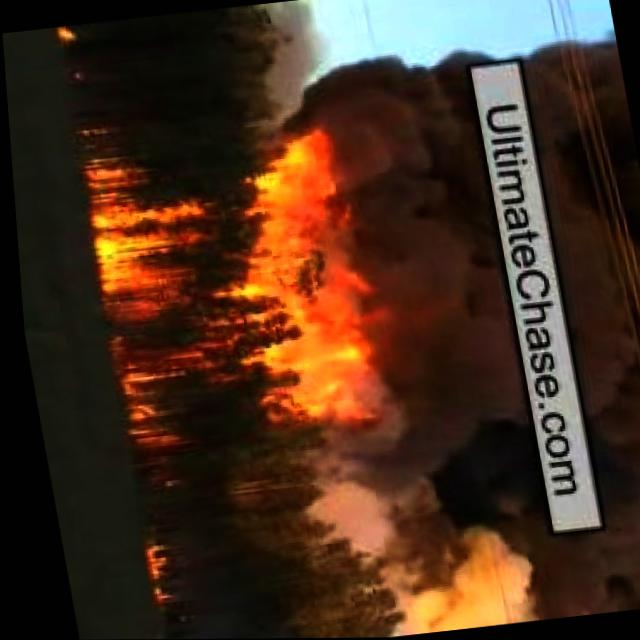Fire: (77, 127, 384, 466), (133, 539, 166, 616), (49, 24, 81, 49)
Smoke: (312, 44, 553, 635), (516, 30, 640, 612)
